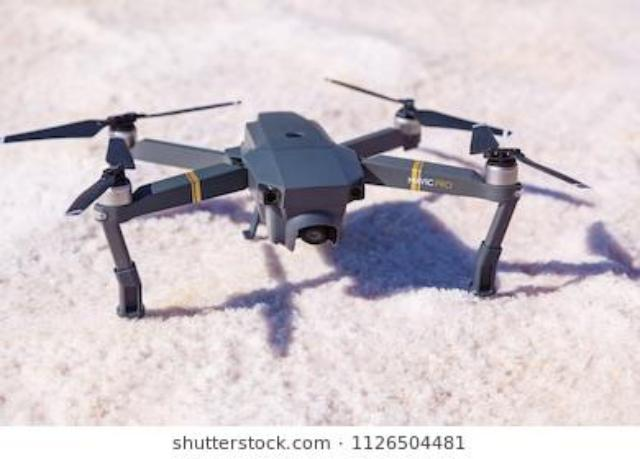drone: (0, 66, 640, 328)
